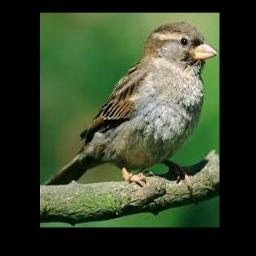Sparrow: (43, 22, 218, 191)
